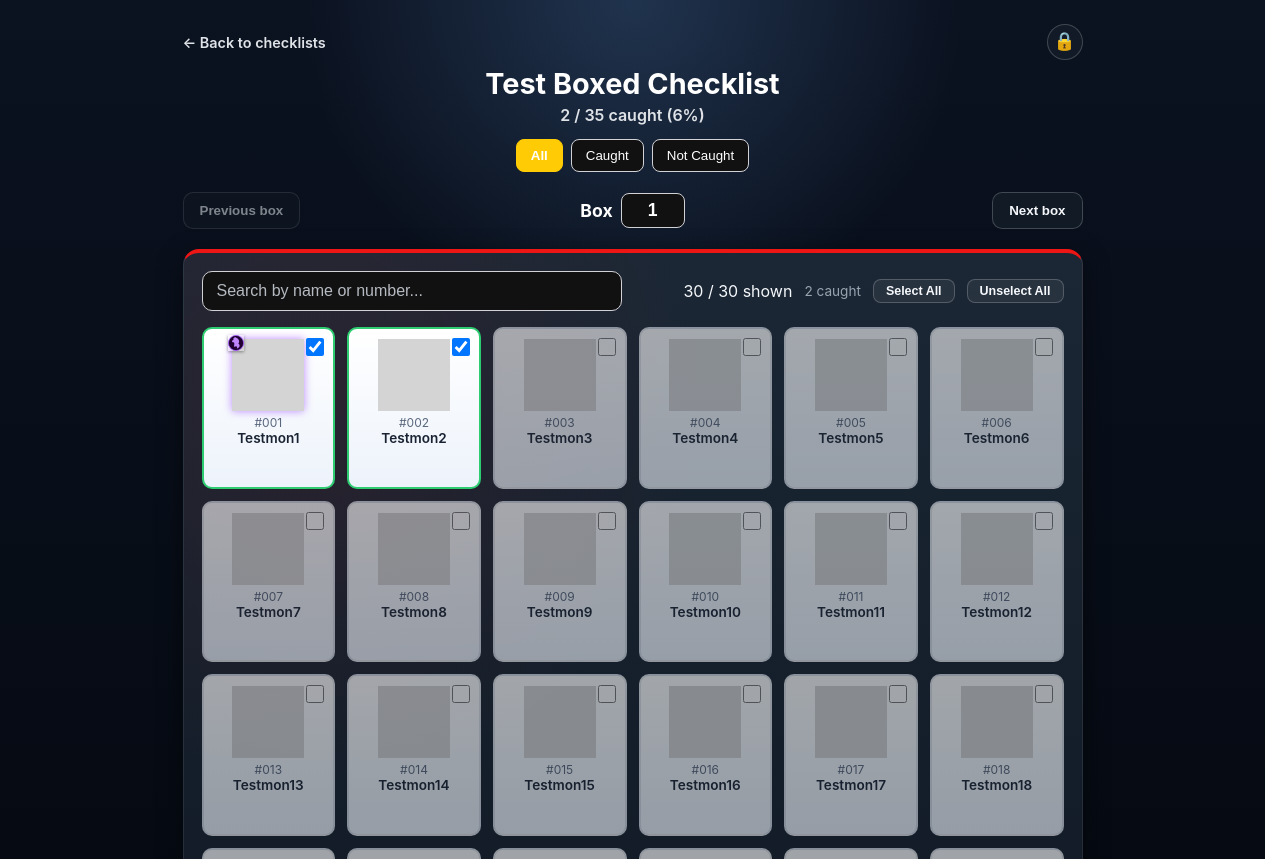
Test: ChecklistPage - Select All / Unselect All / Undo › unselects the visible box and warns that the dates go with it
Click the button "Unselect All" at (1015,291), box 967,279 -> 1064,303
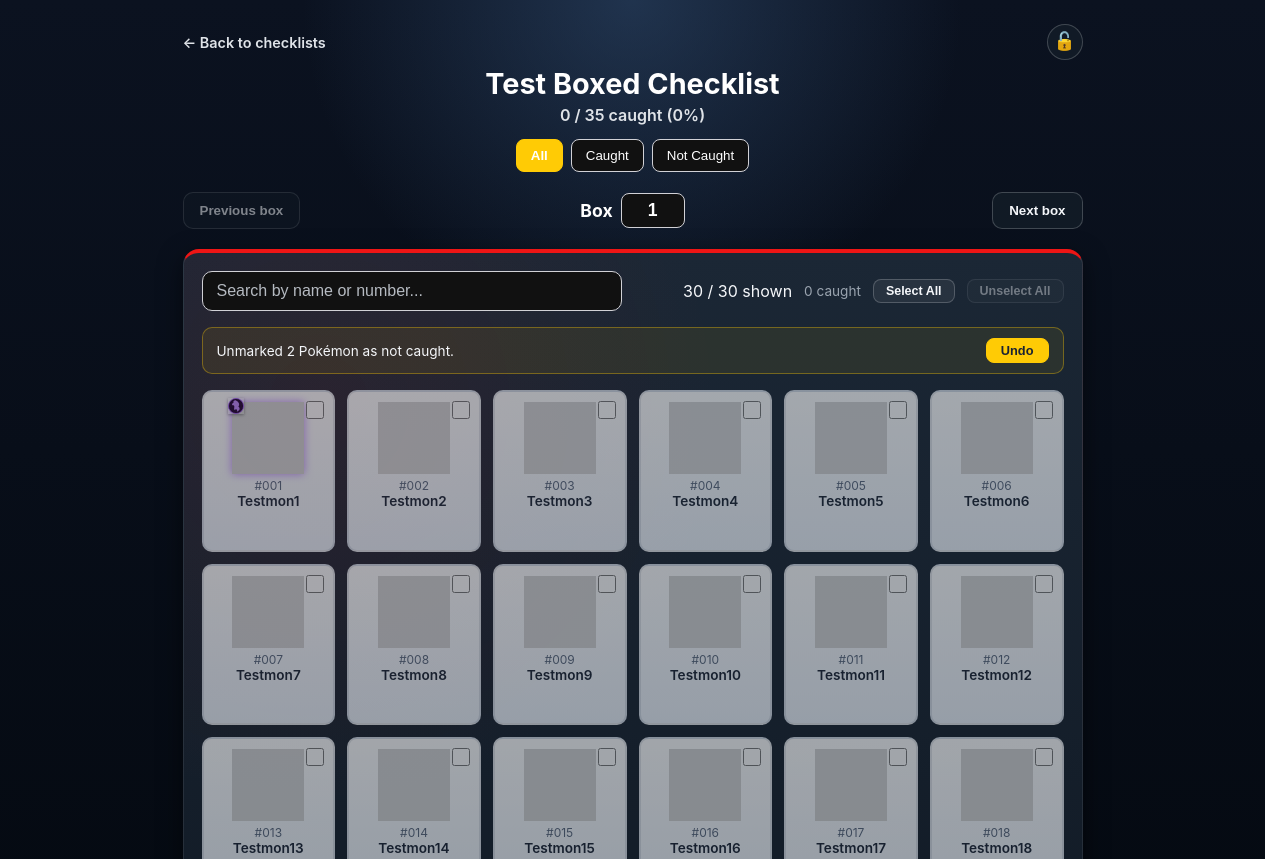
expect the text "0 / 35 caught (0%)" is shown: met, box 560,105 -> 705,125
